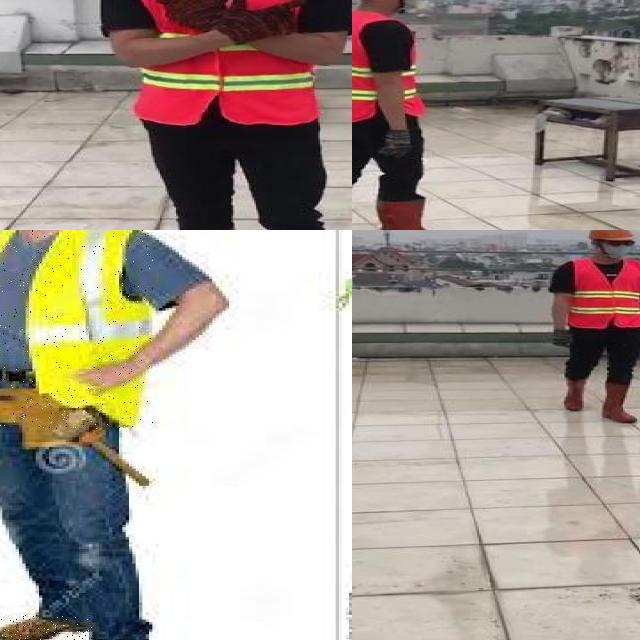boots: (374, 194, 463, 230), (0, 615, 92, 640), (601, 382, 640, 423), (562, 377, 588, 413)
face_mask: (596, 238, 638, 260), (390, 0, 426, 11)
glasses: (602, 238, 637, 250)
hand_glove: (229, 0, 307, 40), (140, 0, 229, 30), (377, 127, 412, 158), (552, 328, 573, 347)
head_helmet: (585, 230, 637, 244)
person: (88, 0, 352, 230), (352, 0, 473, 230), (543, 230, 640, 429)
vest: (0, 230, 154, 429), (124, 0, 318, 125), (352, 13, 422, 121), (569, 258, 640, 327)
